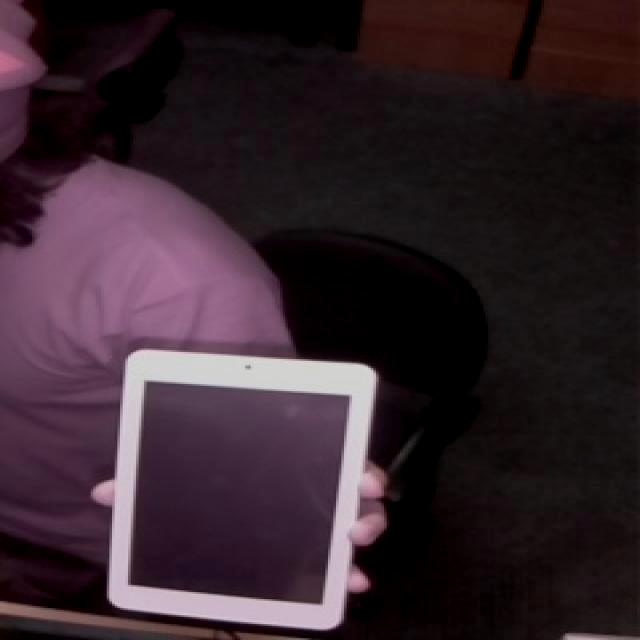phone: (92, 336, 396, 638)
